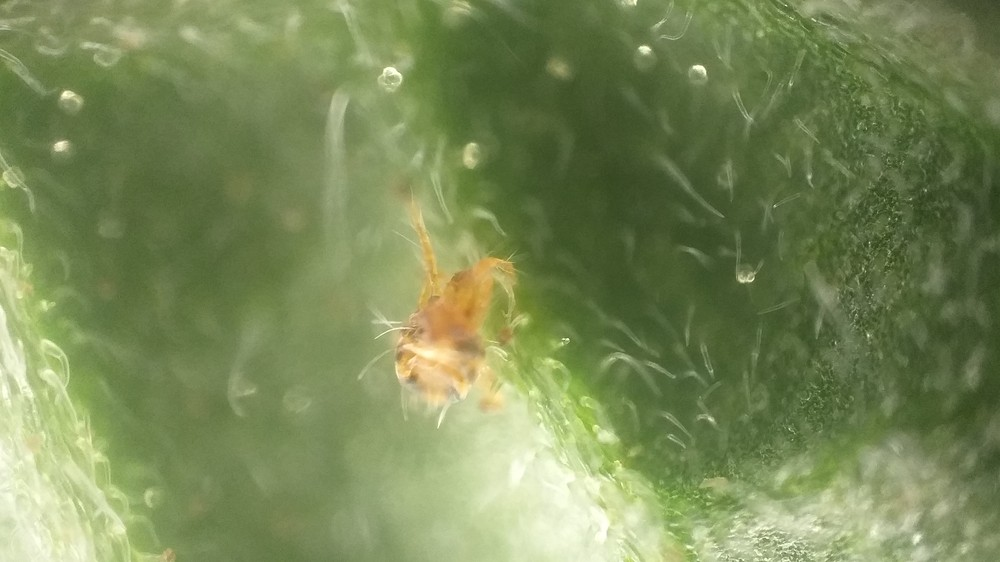Aracnido Rojo: (356, 194, 532, 438)
